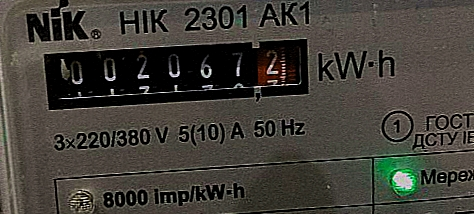0: (65, 57, 85, 87), (162, 49, 181, 78), (99, 53, 117, 83)
2: (261, 46, 280, 76), (132, 51, 150, 81)
6: (195, 50, 214, 80)
7: (228, 48, 245, 79)
screen: (28, 24, 324, 124)
